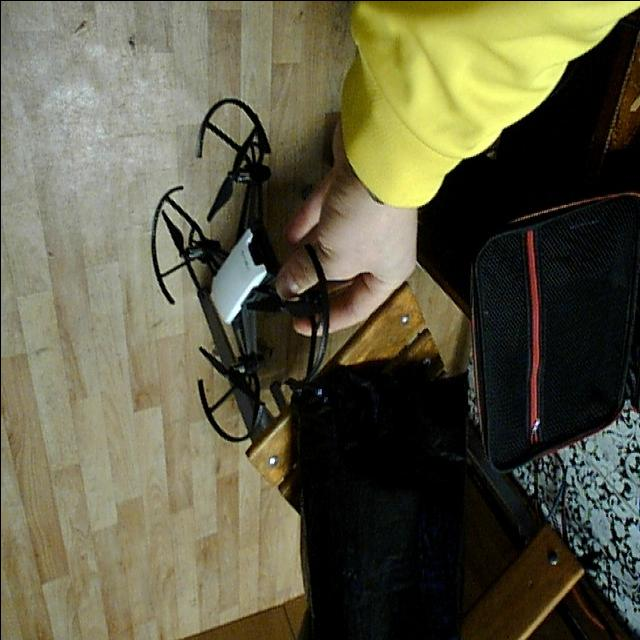drone: (136, 83, 340, 449)
